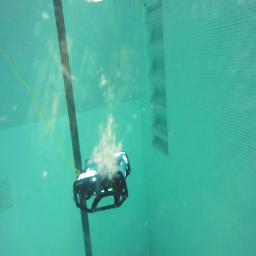Side: (72, 156, 130, 214)
